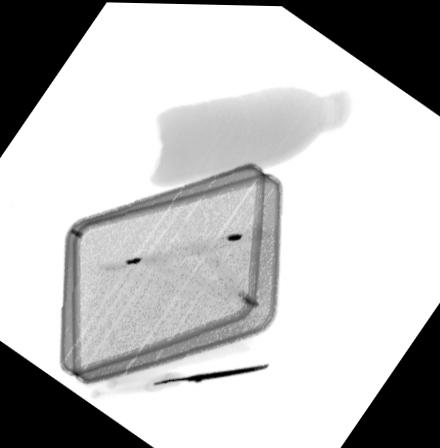Scissors: (93, 363, 268, 392)
